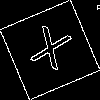X: (25, 25, 73, 80)
